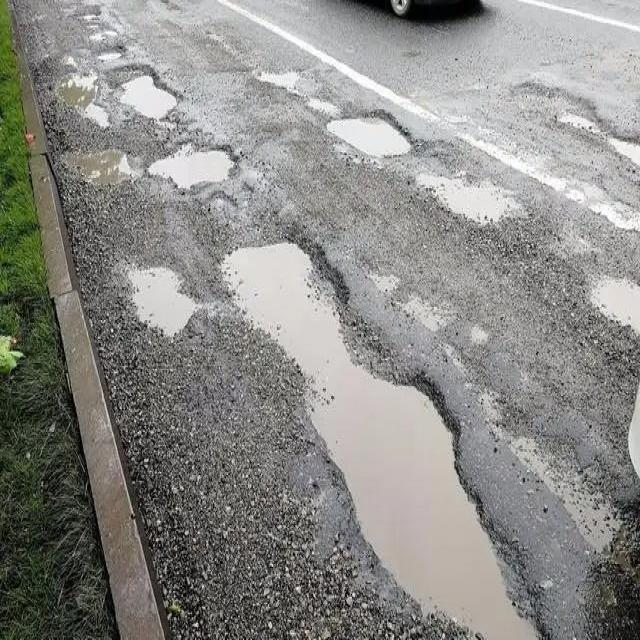Pothole: (204, 232, 562, 638), (48, 60, 138, 198), (114, 253, 199, 347), (311, 98, 417, 172), (145, 138, 247, 196), (108, 63, 183, 122)
